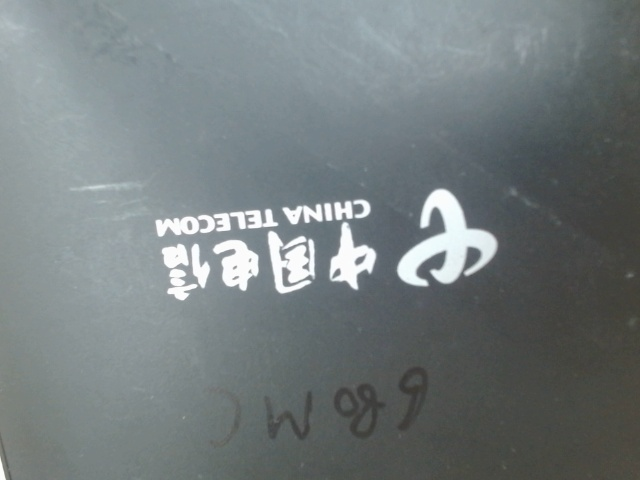AB_ChinaTelecom: (111, 149, 514, 316)
